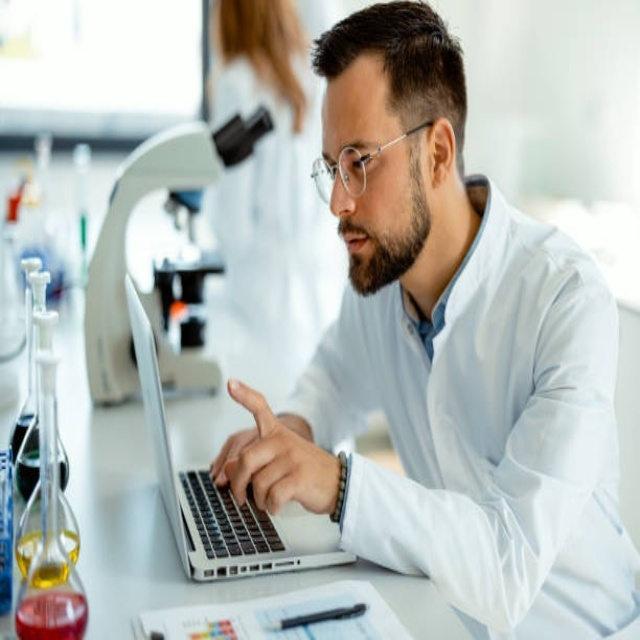Gafas: (312, 120, 432, 204)
Sin_guantes: (214, 378, 330, 518)
Sin_mascara: (336, 218, 384, 290)
